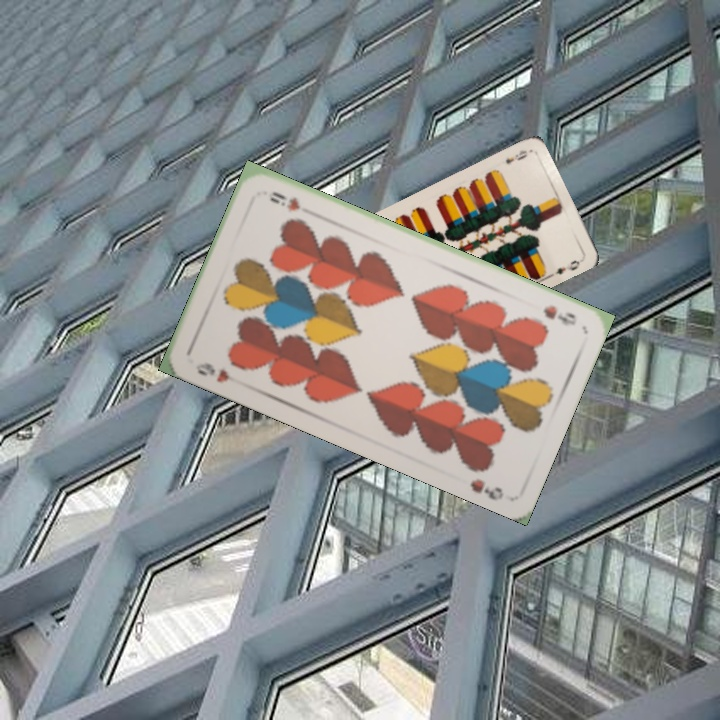E9: (501, 146, 530, 167)
H9: (191, 358, 232, 385), (539, 301, 580, 328)
